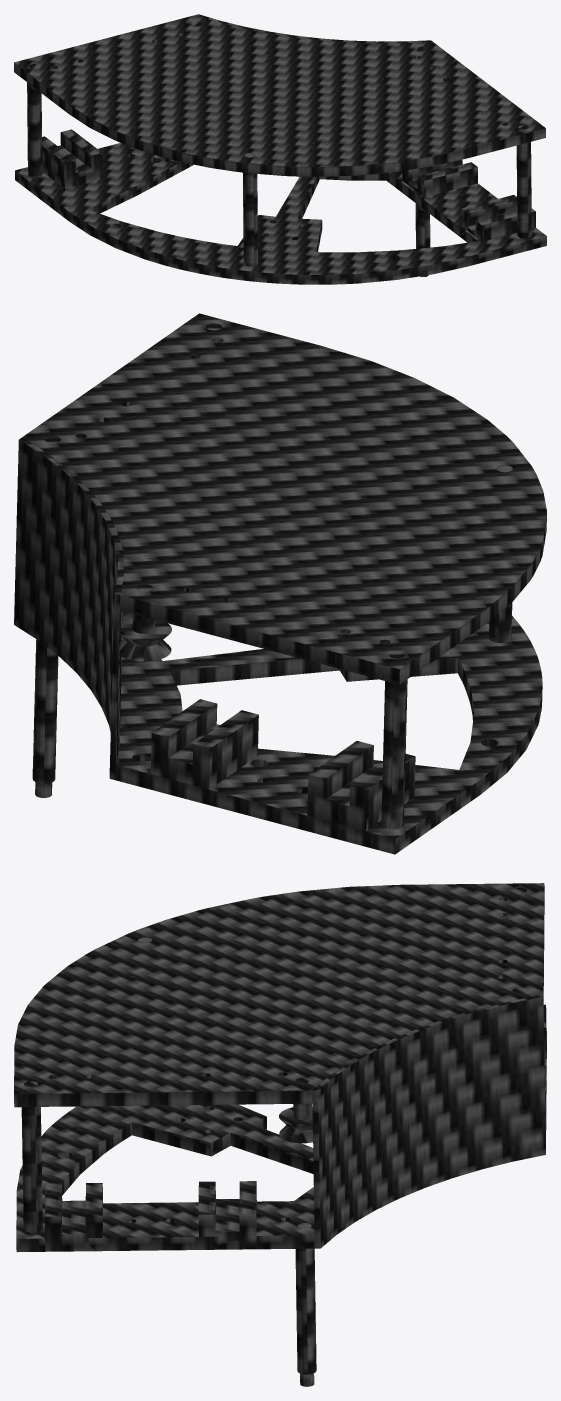
Rendered from right_down_link.dae.
3 views of the same model, one above another, from view 1: azimuth 30°, elevation 25°; view 2: azimuth 150°, elevation 25°; view 3: azimuth 270°, elevation 25° (orthographic). The views are drawn at different scales.
Parts seen in each view (by area): view 1: right_down_link; view 2: right_down_link; view 3: right_down_link.
Part boxes in pixels (x1,y1,x2,y2): right_down_link: (14, 14, 546, 284); right_down_link: (14, 313, 546, 854); right_down_link: (14, 883, 546, 1386).
Bounding box in the file's own units: 0.1056 × 0.1109 × 0.0692.
1 material, 1 textured.
